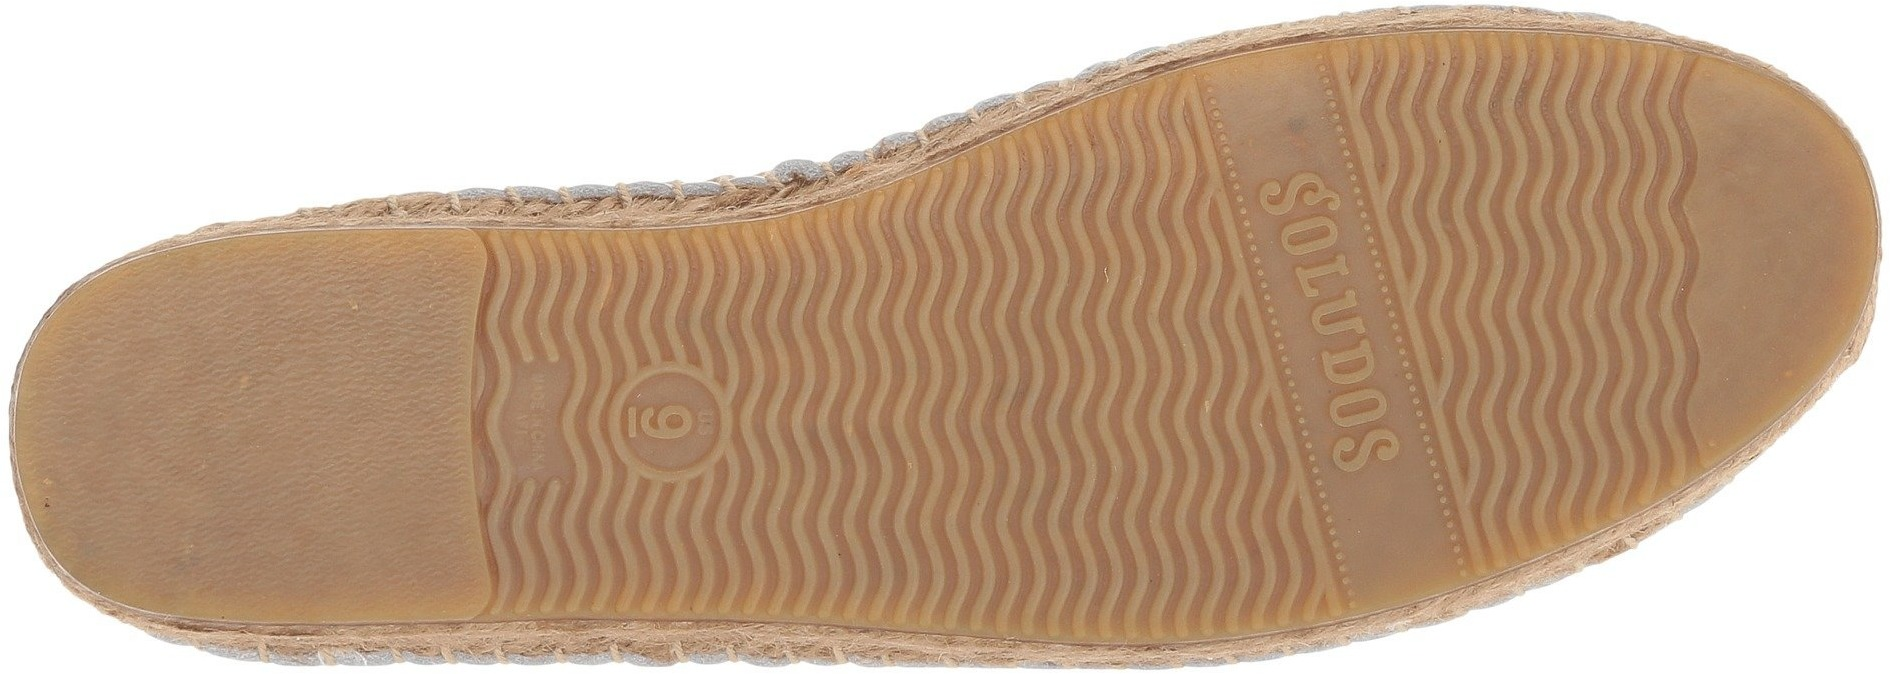chevron: (752, 245, 1140, 575), (1396, 47, 1679, 381), (589, 326, 742, 505), (1157, 479, 1314, 627), (1057, 127, 1205, 268), (476, 345, 601, 508)
circle: (589, 326, 742, 505), (620, 350, 742, 500), (1244, 150, 1373, 272)
other: (121, 289, 438, 576), (1712, 162, 1860, 328)
text: (589, 326, 742, 505), (476, 345, 601, 508), (1244, 150, 1373, 272), (1285, 292, 1399, 414), (1327, 426, 1419, 527), (633, 388, 714, 463)
